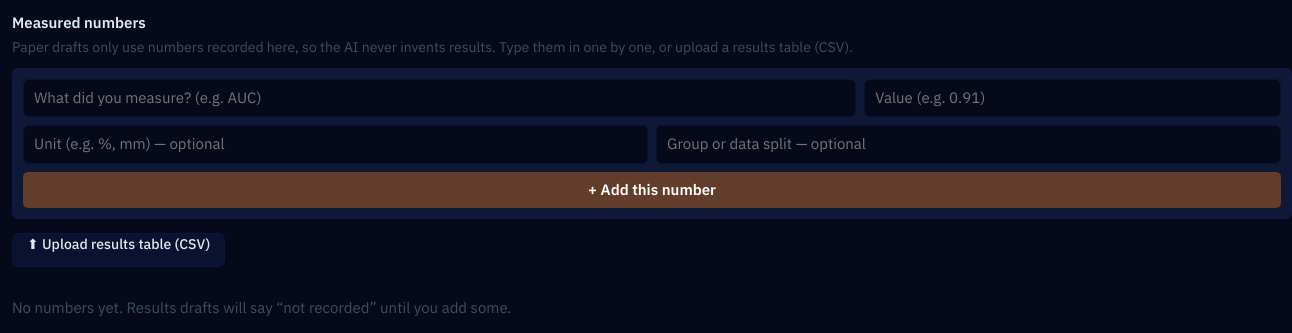
Test: ExperimentMetricsTab › will not submit without a name and a numeric value
Check: the button "+ Add this number" is disabled, box x1=23 y1=172 x2=1281 y2=208
Type "dice" into the field labelled "What did you measure" at (440, 98), box x1=23 y1=78 x2=856 y2=117
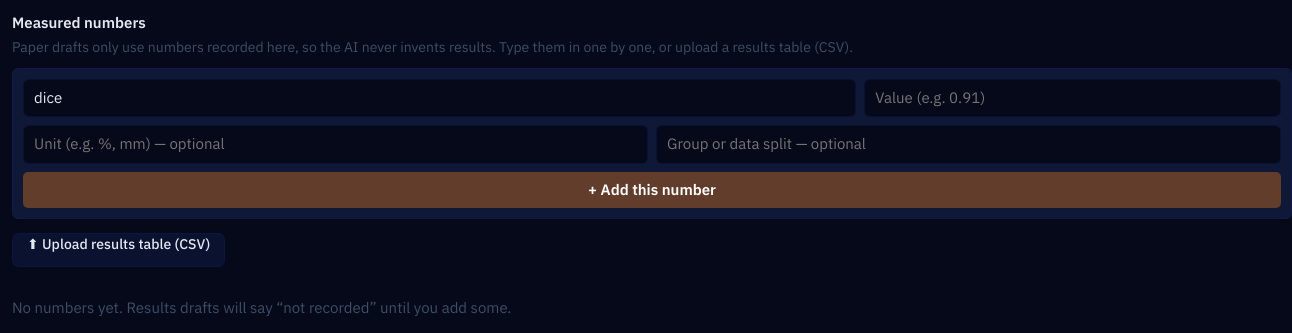
Check: the button "+ Add this number" is disabled, box x1=23 y1=172 x2=1281 y2=208
Type "0.9" into the field labelled "Value" at (1073, 98), box x1=864 y1=78 x2=1281 y2=117
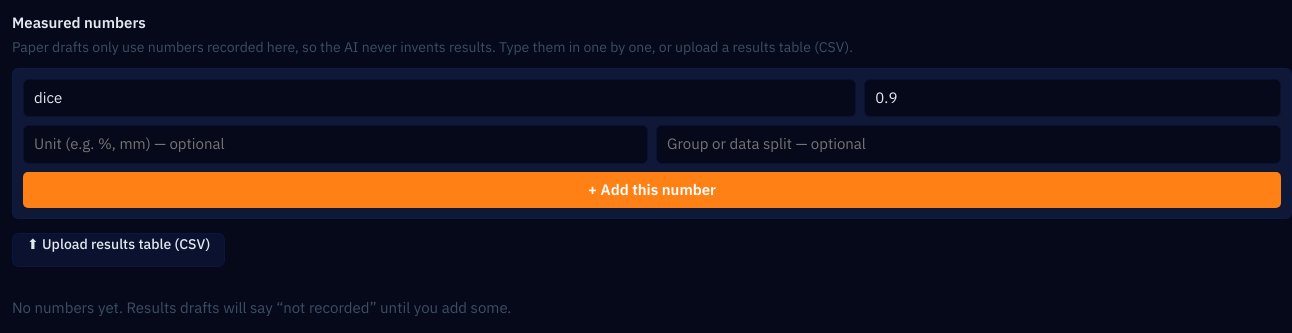
Check: the button "+ Add this number" is enabled, box x1=23 y1=172 x2=1281 y2=208
